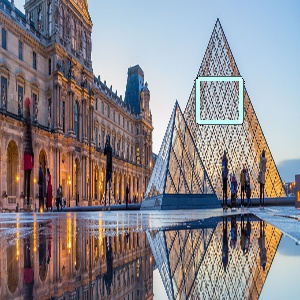square: (193, 75, 245, 126)
